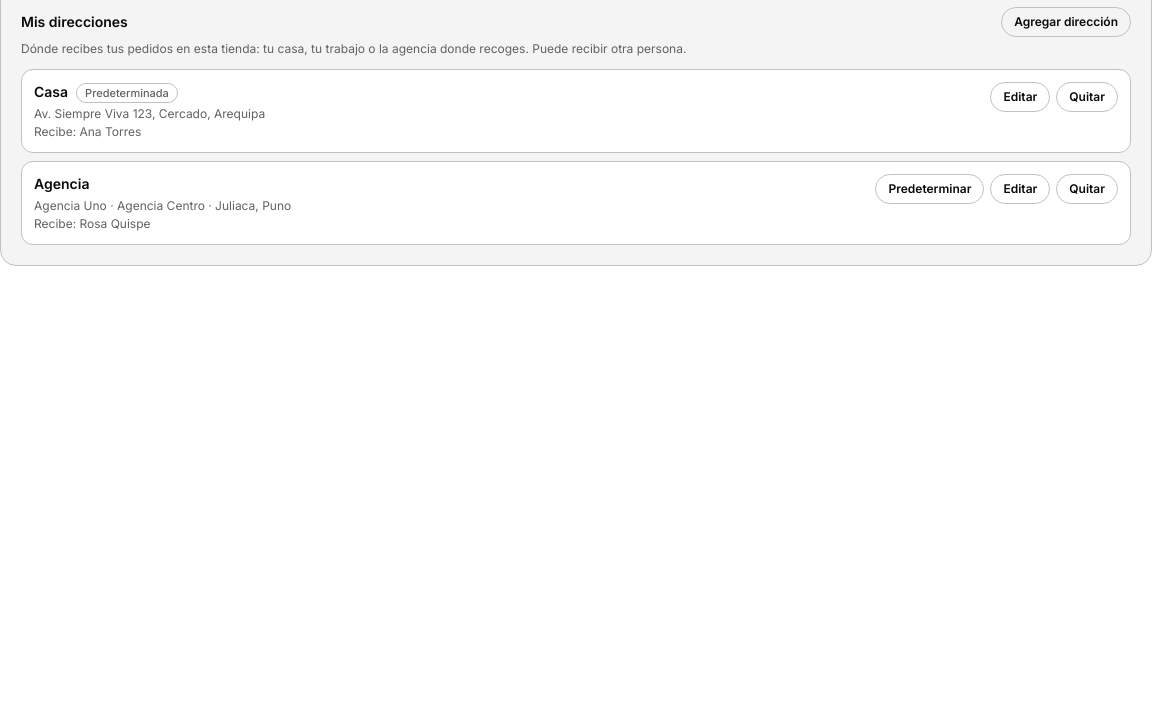
Test: a new door starts from the buyer's own name and is sent trimmed
Click the button "Agregar dirección": (1066, 22) [1001,7,1131,37]
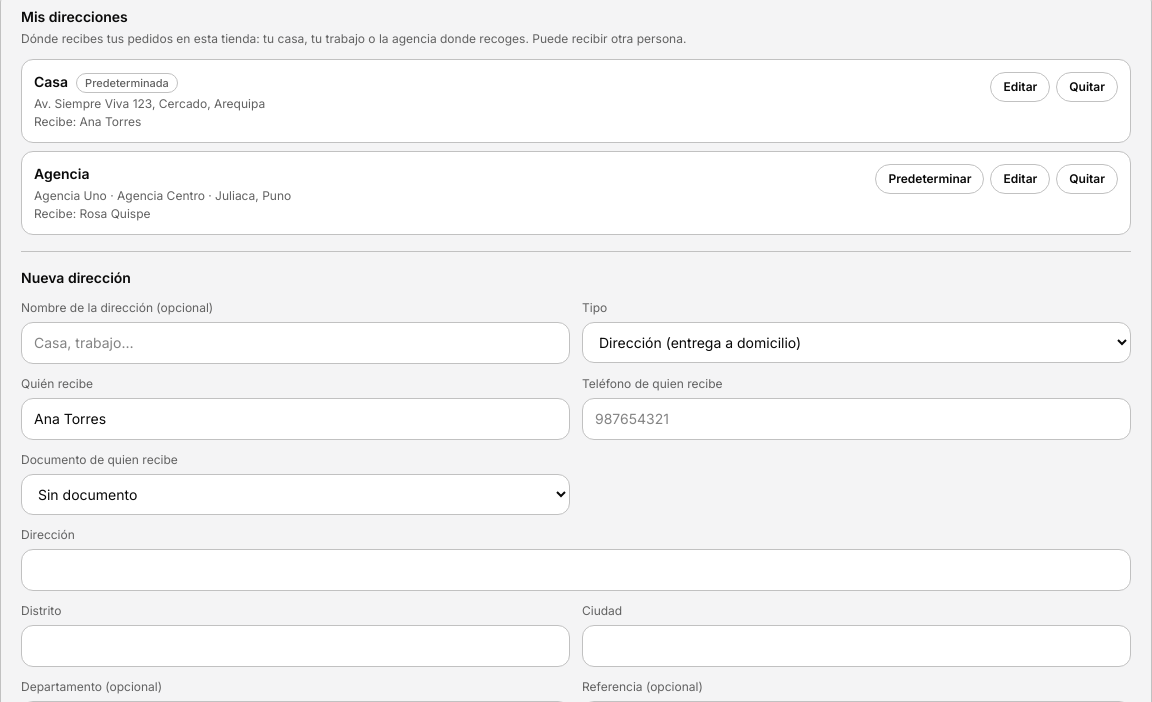
Check: the field labelled "Quién recibe" holds "Ana Torres", box [21,398,570,440]
In the field labelled "Dirección": (576, 570) [21,549,1131,591], type "  Calle Dos 45 "
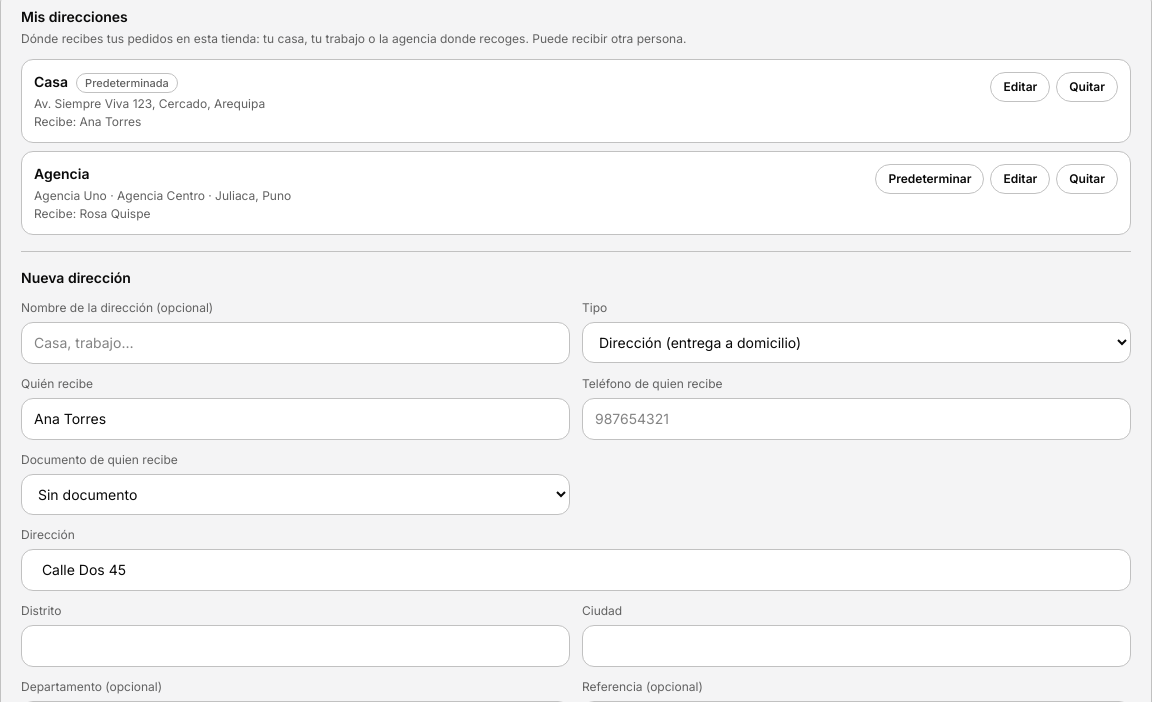
In the field labelled "Distrito": (296, 646) [21,625,570,667], type "Yanahuara"
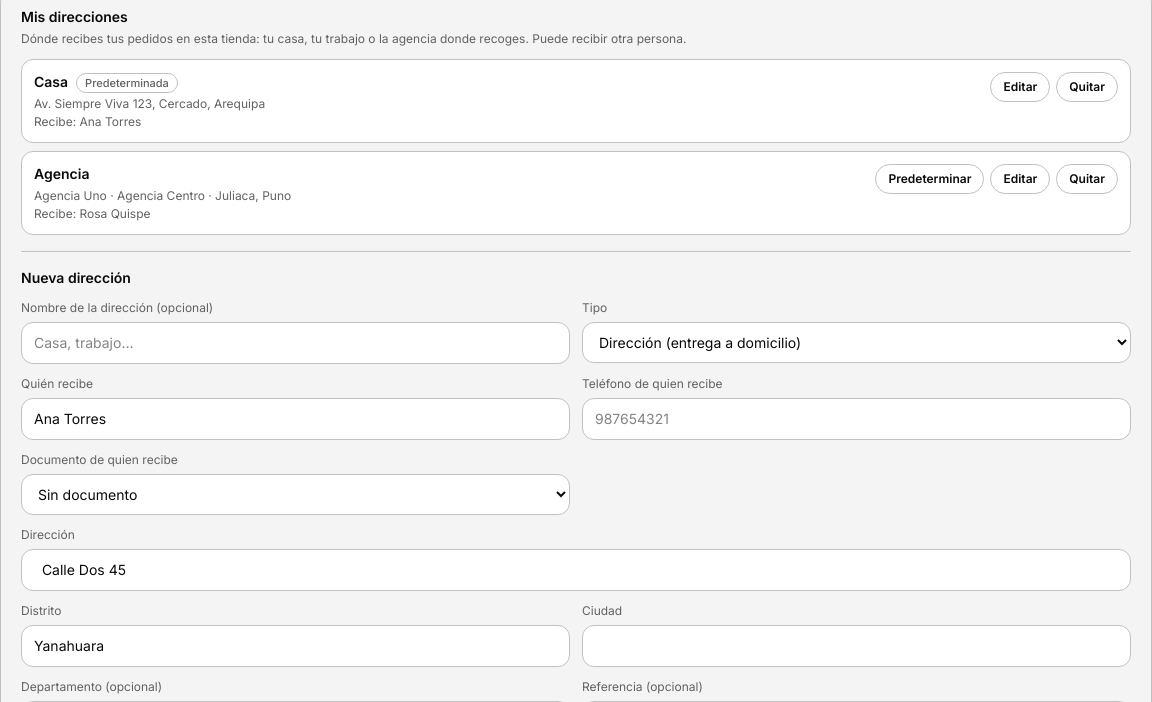
In the field labelled "Ciudad": (856, 646) [582,625,1131,667], type "Arequipa"
(page scrolled)
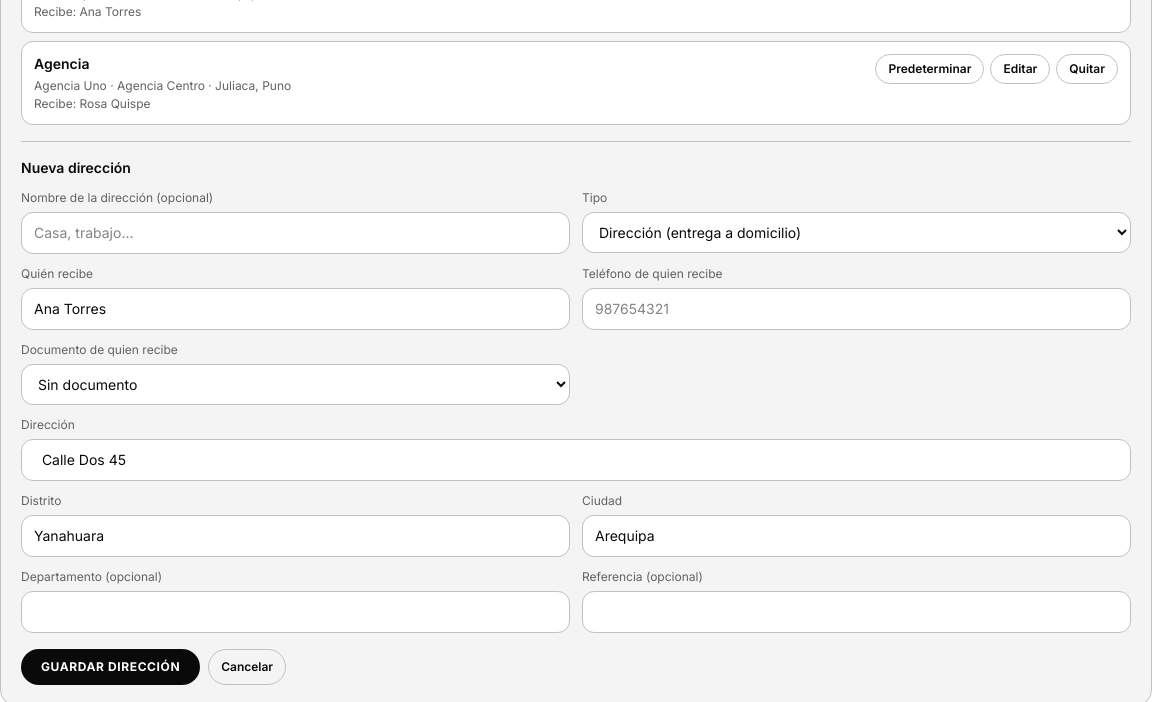
Click the button "Guardar dirección": (111, 667) [21,649,200,685]
(page scrolled)
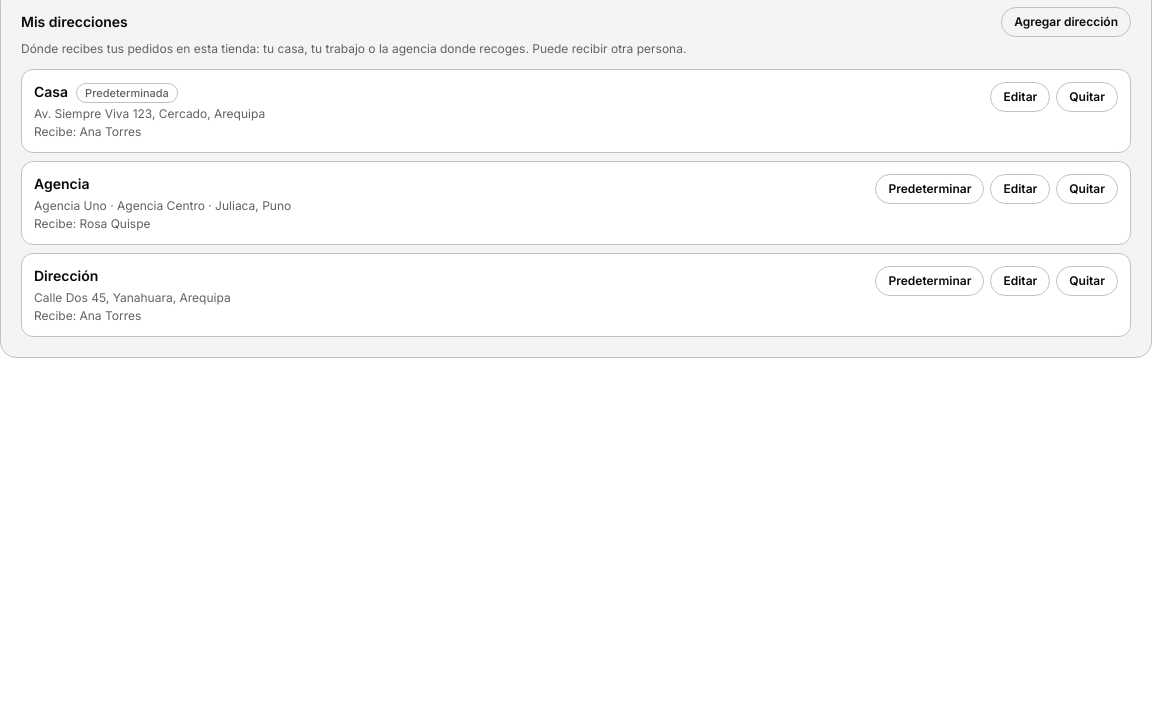
Check: the number of list items with test id "saved-address" is 3, box [21,69,1131,153]; [21,161,1131,245]; [21,253,1131,337]
Check: the form "Formulario de dirección" is gone
